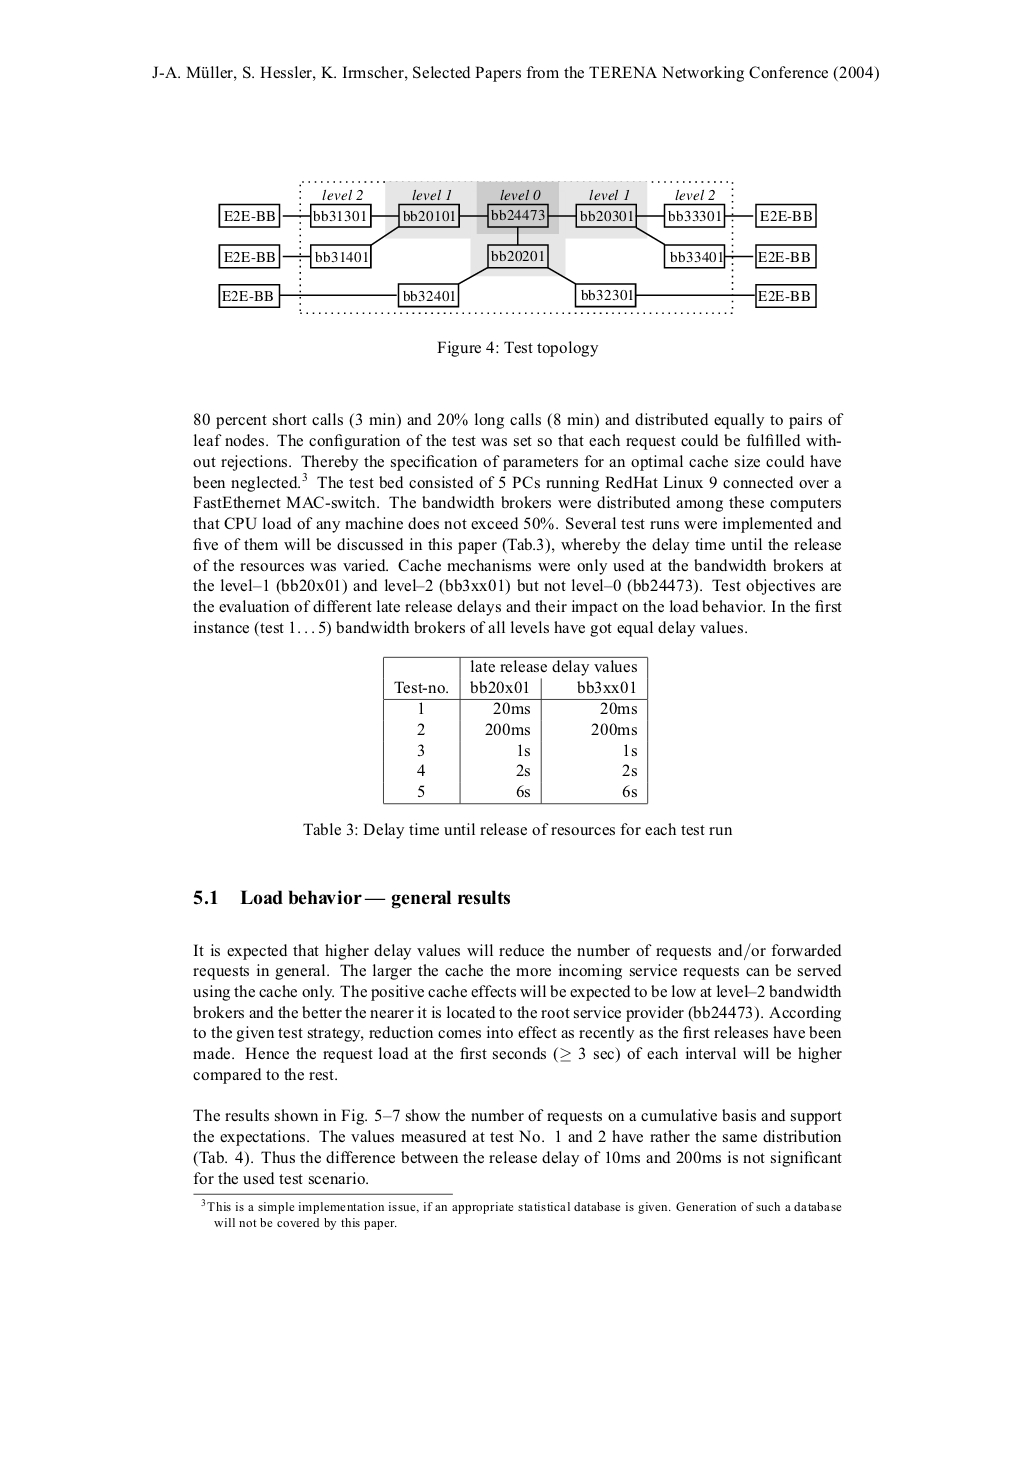Table: (383, 655, 648, 805)
figure: (218, 180, 816, 314), (193, 1192, 452, 1196)
